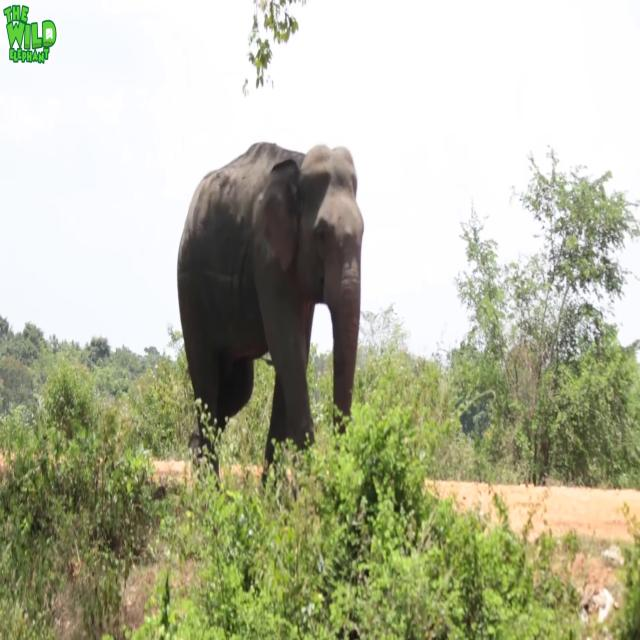Elephant: (176, 139, 364, 490)
